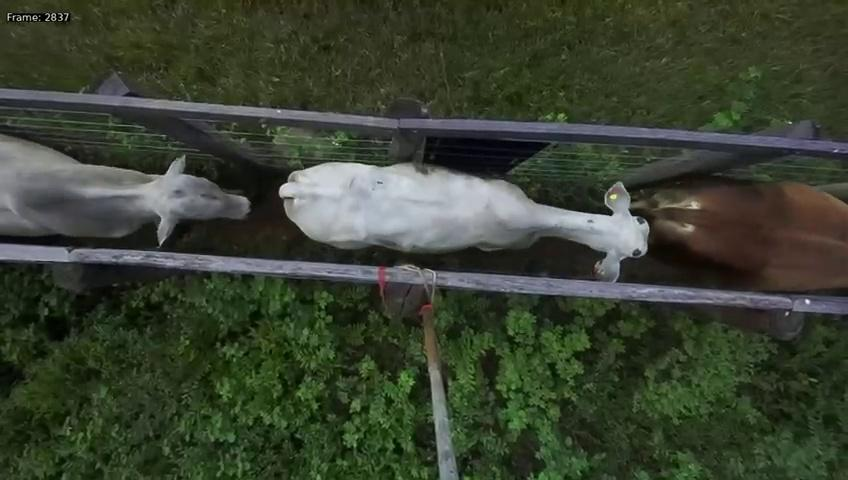cattle: (271, 149, 656, 285), (0, 139, 252, 249)
